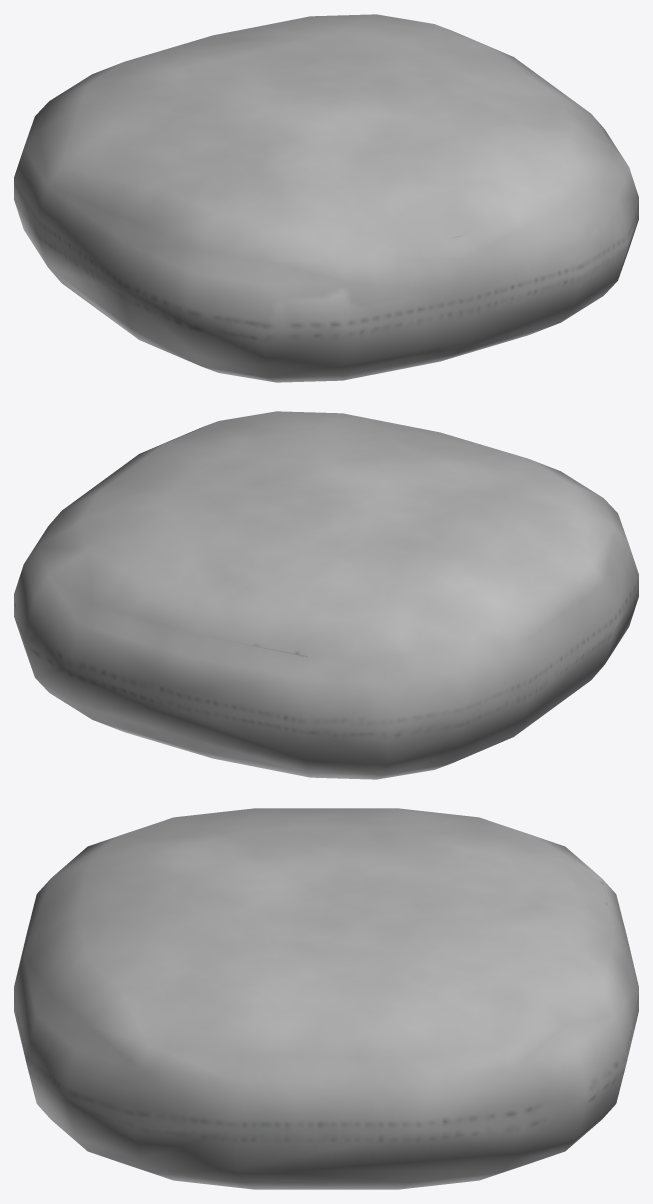
The model's file is Head_C1.fbx.
3 views of the same model, one above another, from view 1: azimuth 30°, elevation 25°; view 2: azimuth 150°, elevation 25°; view 3: azimuth 270°, elevation 25° (orthographic). The views are drawn at different scales.
Visible parts, largest first — view 1: Civ_Gorra_Head_C1; view 2: Civ_Gorra_Head_C1; view 3: Civ_Gorra_Head_C1.
Part boxes in pixels (box(x1,y1,x2,y2)): Civ_Gorra_Head_C1: box(14, 14, 638, 382); Civ_Gorra_Head_C1: box(14, 411, 638, 779); Civ_Gorra_Head_C1: box(14, 808, 638, 1189).
Bounding box in the file's own units: 1.35 × 0.5319 × 1.36.
